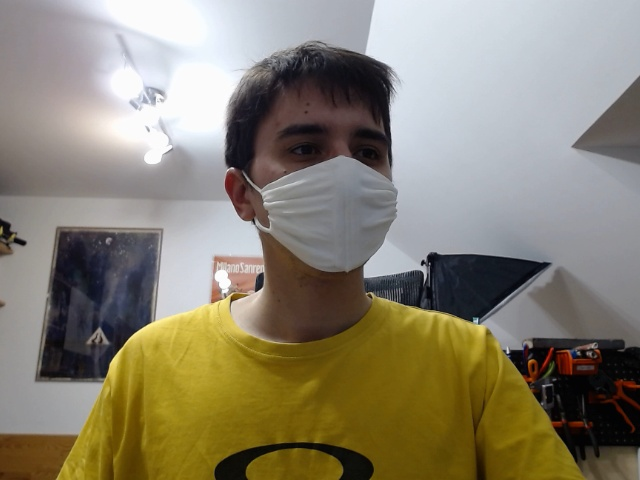CorrectMask: (219, 41, 400, 276)
